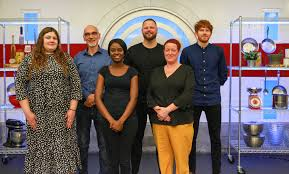Bad: (15, 25, 107, 65), (163, 20, 227, 75), (130, 17, 183, 70), (106, 18, 163, 67), (74, 25, 129, 71)
